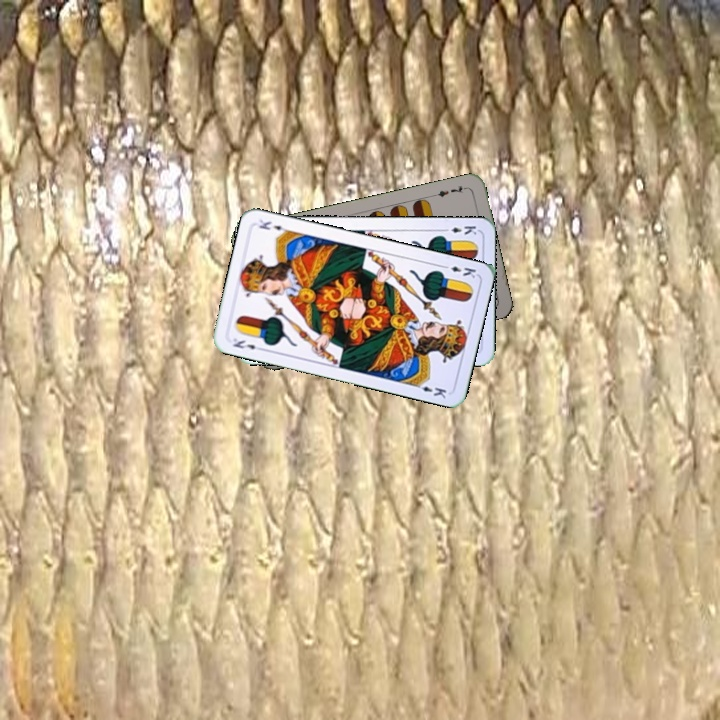E7: (429, 182, 469, 200)
EK: (438, 261, 478, 281), (229, 334, 266, 354), (439, 222, 479, 237)
